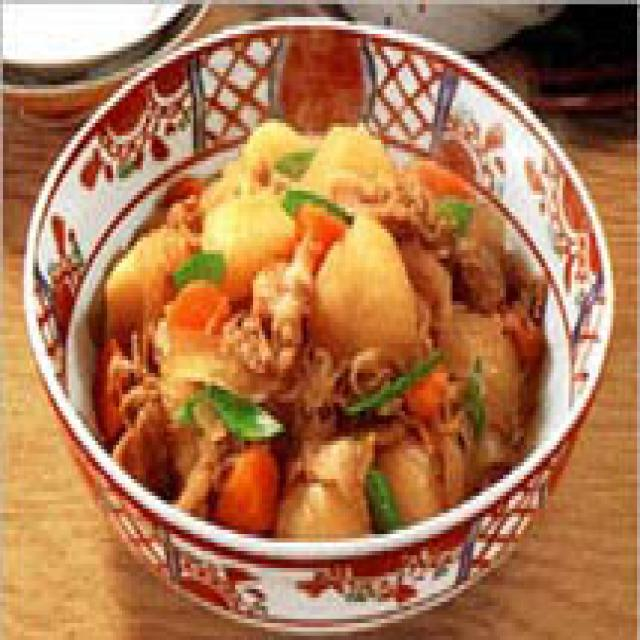牛肉菜式: (30, 9, 610, 632)
